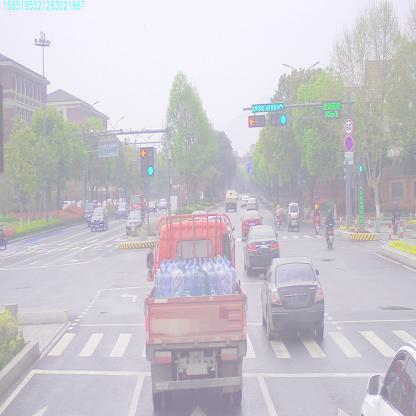traffic-light: (251, 104, 284, 113), (249, 114, 266, 126), (269, 112, 285, 124)
